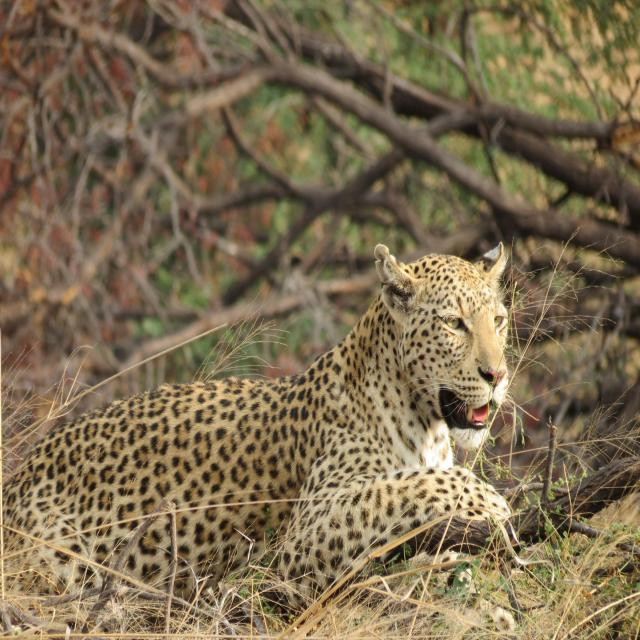Leopard: (0, 241, 535, 618)
